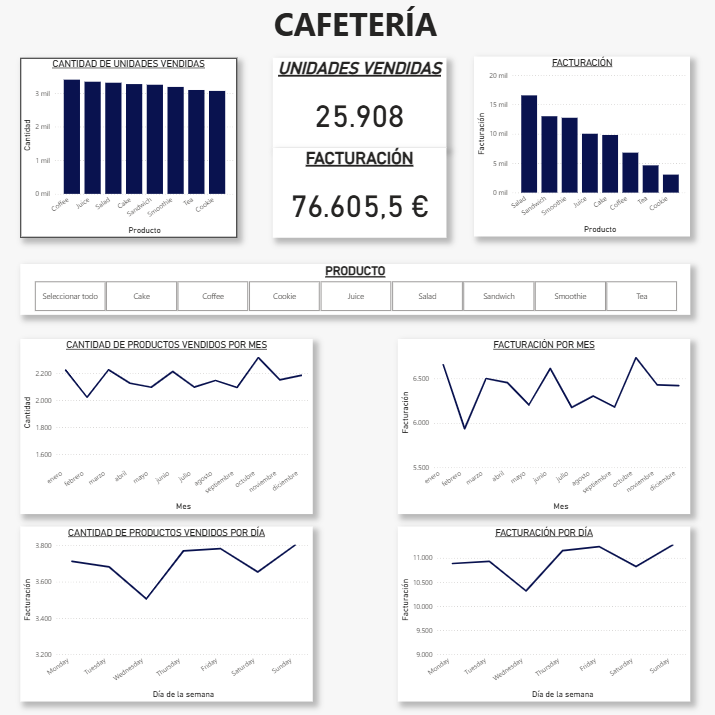

This screenshot's page, from the dashboard's own definition file:
{"tool":"powerbi","page":{"name":"Página 1","canvas":[1280,1280],"ordinal":0},"visuals":[{"type":"columnChart","title":"CANTIDAD DE UNIDADES VENDIDAS","fields":{"Y":["Sum(ventascafeteria.Quantity)"],"Category":["ventascafeteria.Item"]},"box":[36.7,103.3,385,320],"z":0},{"type":"columnChart","title":"FACTURACIÓN","fields":{"Category":["ventascafeteria.Item"],"Y":["Sum(ventascafeteria.Total Spent)"]},"box":[844.3,102.9,384.3,320],"z":1000},{"type":"card","title":"UNIDADES VENDIDAS","fields":{"Values":["Sum(ventascafeteria.Quantity)"]},"box":[485.7,104.3,308.6,160],"z":2000},{"type":"card","title":"FACTURACIÓN","fields":{"Values":["Sum(ventascafeteria.Total Spent)"]},"box":[485.7,264.3,308.6,160],"z":3000},{"type":"slicer","title":"PRODUCTO","fields":{"Values":["ventascafeteria.Item"]},"box":[37.1,470,1191.4,90],"z":4000},{"type":"textbox","box":[37.1,0,1191.4,91.4],"z":5000},{"type":"lineChart","title":"CANTIDAD DE PRODUCTOS VENDIDOS POR MES","fields":{"Category":["ventascafeteria.Transaction Date.Variación.Jerarquía de fechas.Mes"],"Y":["Sum(ventascafeteria.Quantity)"]},"box":[37.1,604.3,520,311.4],"z":6000},{"type":"lineChart","title":"FACTURACIÓN POR MES","fields":{"Category":["ventascafeteria.Transaction Date.Variación.Jerarquía de fechas.Mes"],"Y":["Sum(ventascafeteria.Total Spent)"]},"box":[708.6,604.3,520,311.4],"z":7000},{"type":"lineChart","title":"CANTIDAD DE PRODUCTOS VENDIDOS POR DÍA","fields":{"Category":["ventascafeteria.dia"],"Y":["Sum(ventascafeteria.Quantity)"]},"box":[37.1,938.6,520,311.4],"z":8000},{"type":"lineChart","title":"FACTURACIÓN POR DÍA","fields":{"Category":["ventascafeteria.dia"],"Y":["Sum(ventascafeteria.Total Spent)"]},"box":[708.6,938.6,520,311.4],"z":9000}]}

Visuals, with their boxes in screenshot pixels (x1, y1, x2, y2), scaled from the page's 1280x1280 canvas onto the 715x715 screenshot:
"CANTIDAD DE UNIDADES VENDIDAS" columnChart: [21,58,236,236]
"FACTURACIÓN" columnChart: [472,57,686,236]
"UNIDADES VENDIDAS" card: [271,58,444,148]
"FACTURACIÓN" card: [271,148,444,237]
"PRODUCTO" slicer: [21,263,686,313]
textbox: [21,0,686,51]
"CANTIDAD DE PRODUCTOS VENDIDOS POR MES" lineChart: [21,338,311,512]
"FACTURACIÓN POR MES" lineChart: [396,338,686,512]
"CANTIDAD DE PRODUCTOS VENDIDOS POR DÍA" lineChart: [21,524,311,698]
"FACTURACIÓN POR DÍA" lineChart: [396,524,686,698]
